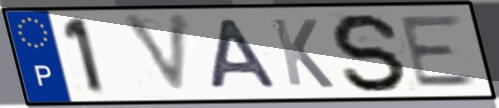1: (59, 15, 108, 97)
A: (207, 17, 282, 92)
E: (396, 12, 482, 90)
K: (268, 16, 338, 91)
S: (329, 11, 411, 94)
V: (118, 11, 194, 99)
